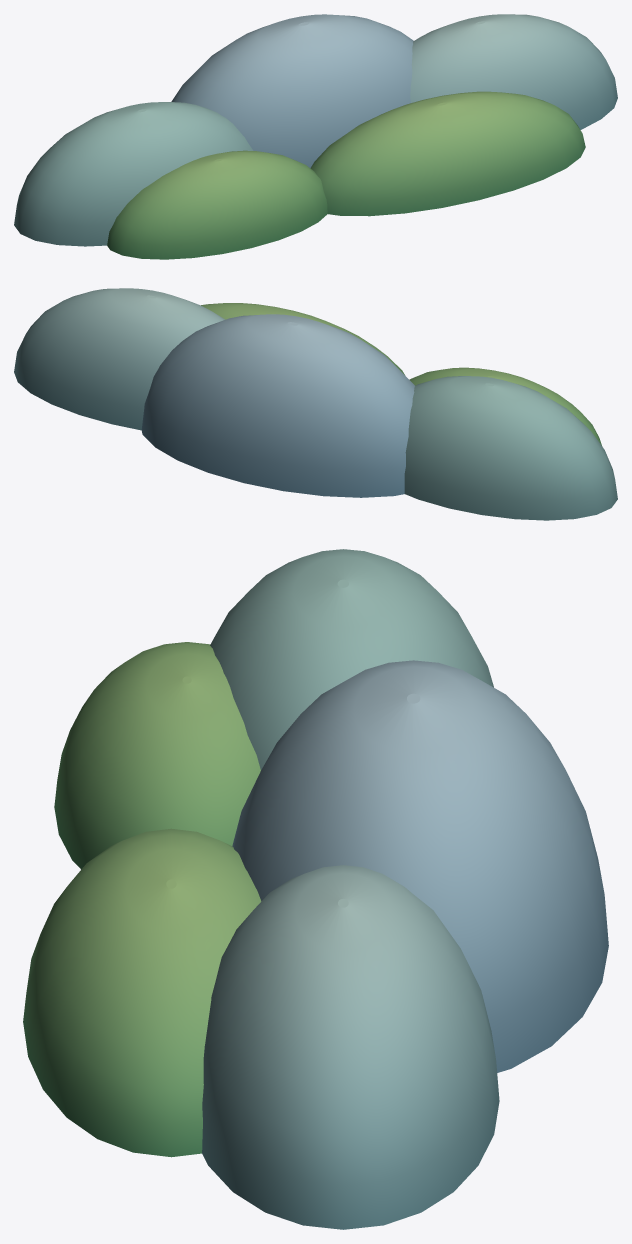
File: Origin_Soft_Hills.glb
3 renders of one model, top to bottom at view 1: azimuth 30°, elevation 25°; view 2: azimuth 150°, elevation 25°; view 3: azimuth 270°, elevation 25°, orthographic. The views are drawn at different scales.
Visible parts, largest first — view 1: Origin_Soft_Hills; view 2: Origin_Soft_Hills; view 3: Origin_Soft_Hills.
Part boxes in pixels (x1,y1,x2,y2): Origin_Soft_Hills: [14, 14, 617, 259]; Origin_Soft_Hills: [14, 288, 617, 520]; Origin_Soft_Hills: [23, 549, 608, 1229].
Bounding box in the file's own units: 17.5 × 3.49 × 7.5.
